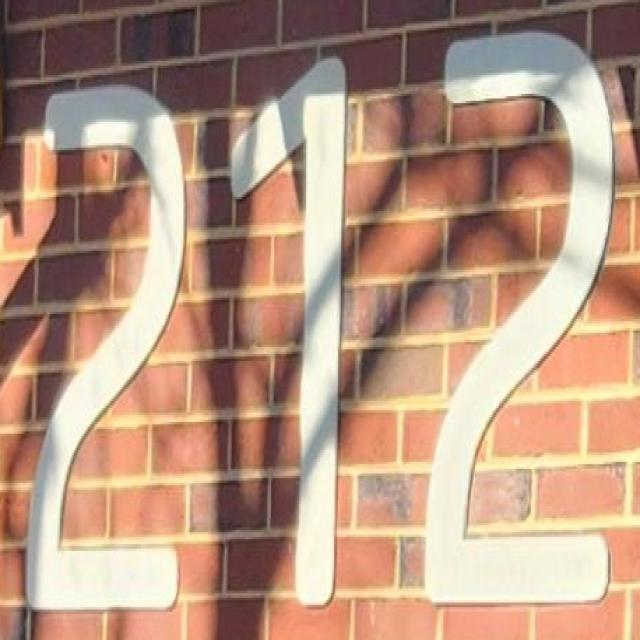character: (420, 20, 617, 614), (21, 74, 193, 622), (228, 55, 352, 615)
